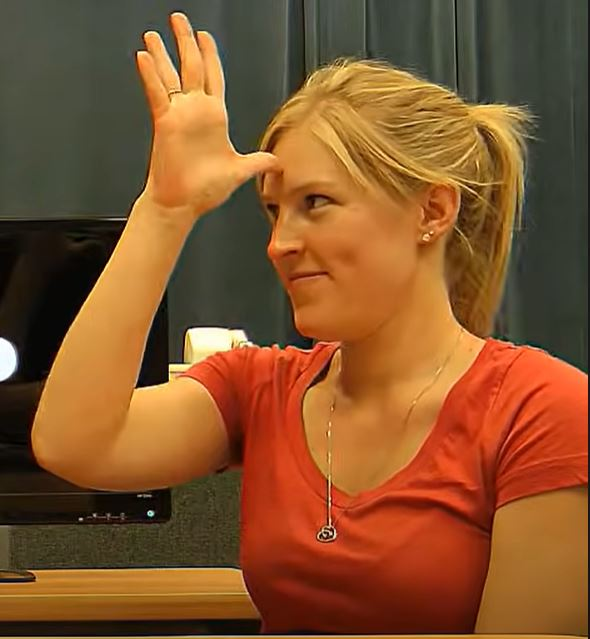Dad: (101, 3, 315, 237)
